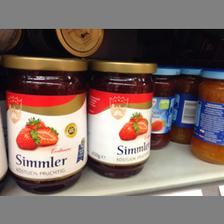Marmelade: (2, 53, 90, 193), (87, 60, 157, 178), (187, 69, 223, 165)
